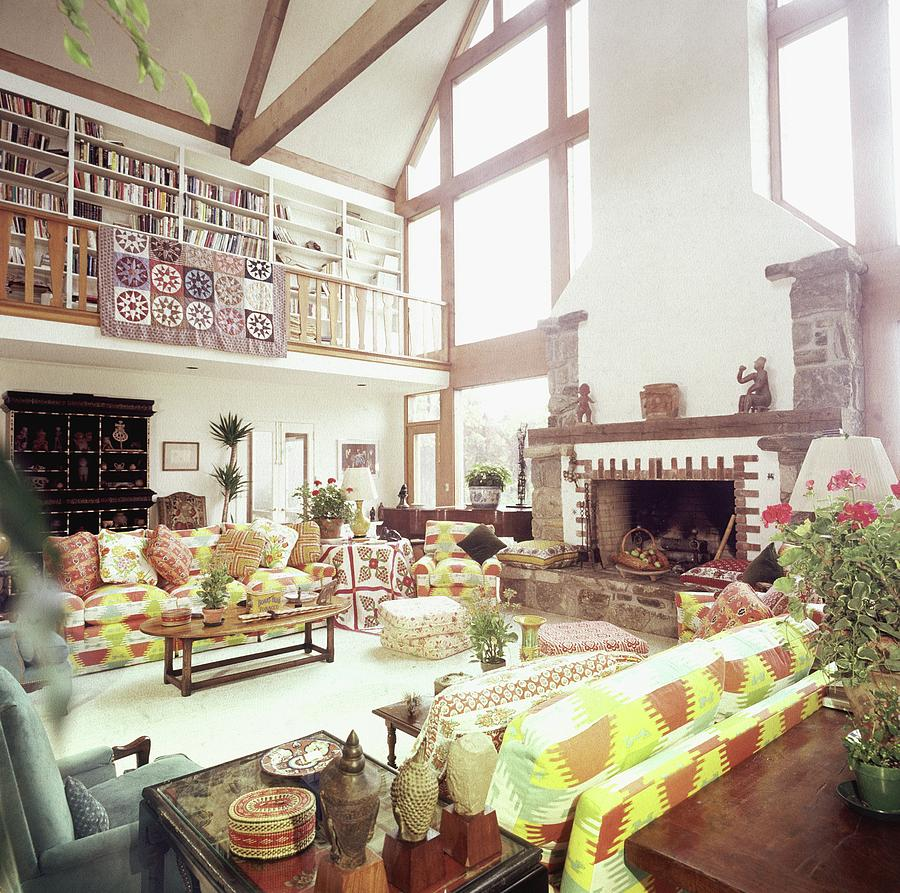putih: (382, 599, 465, 657)
